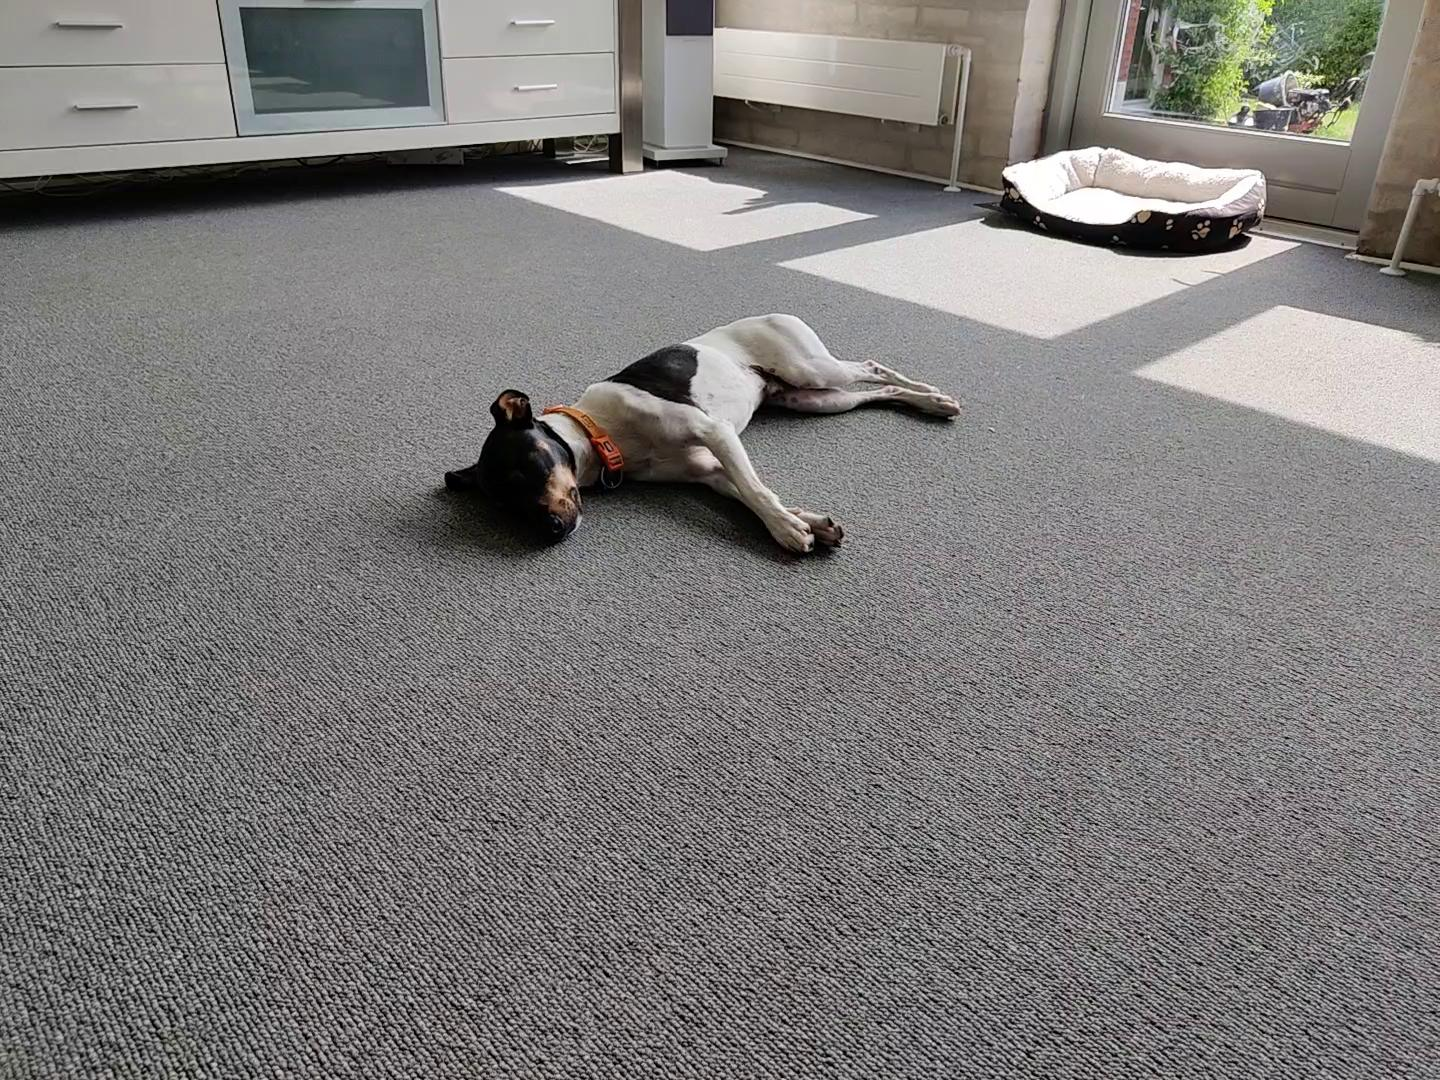Dog: (438, 304, 971, 572)
